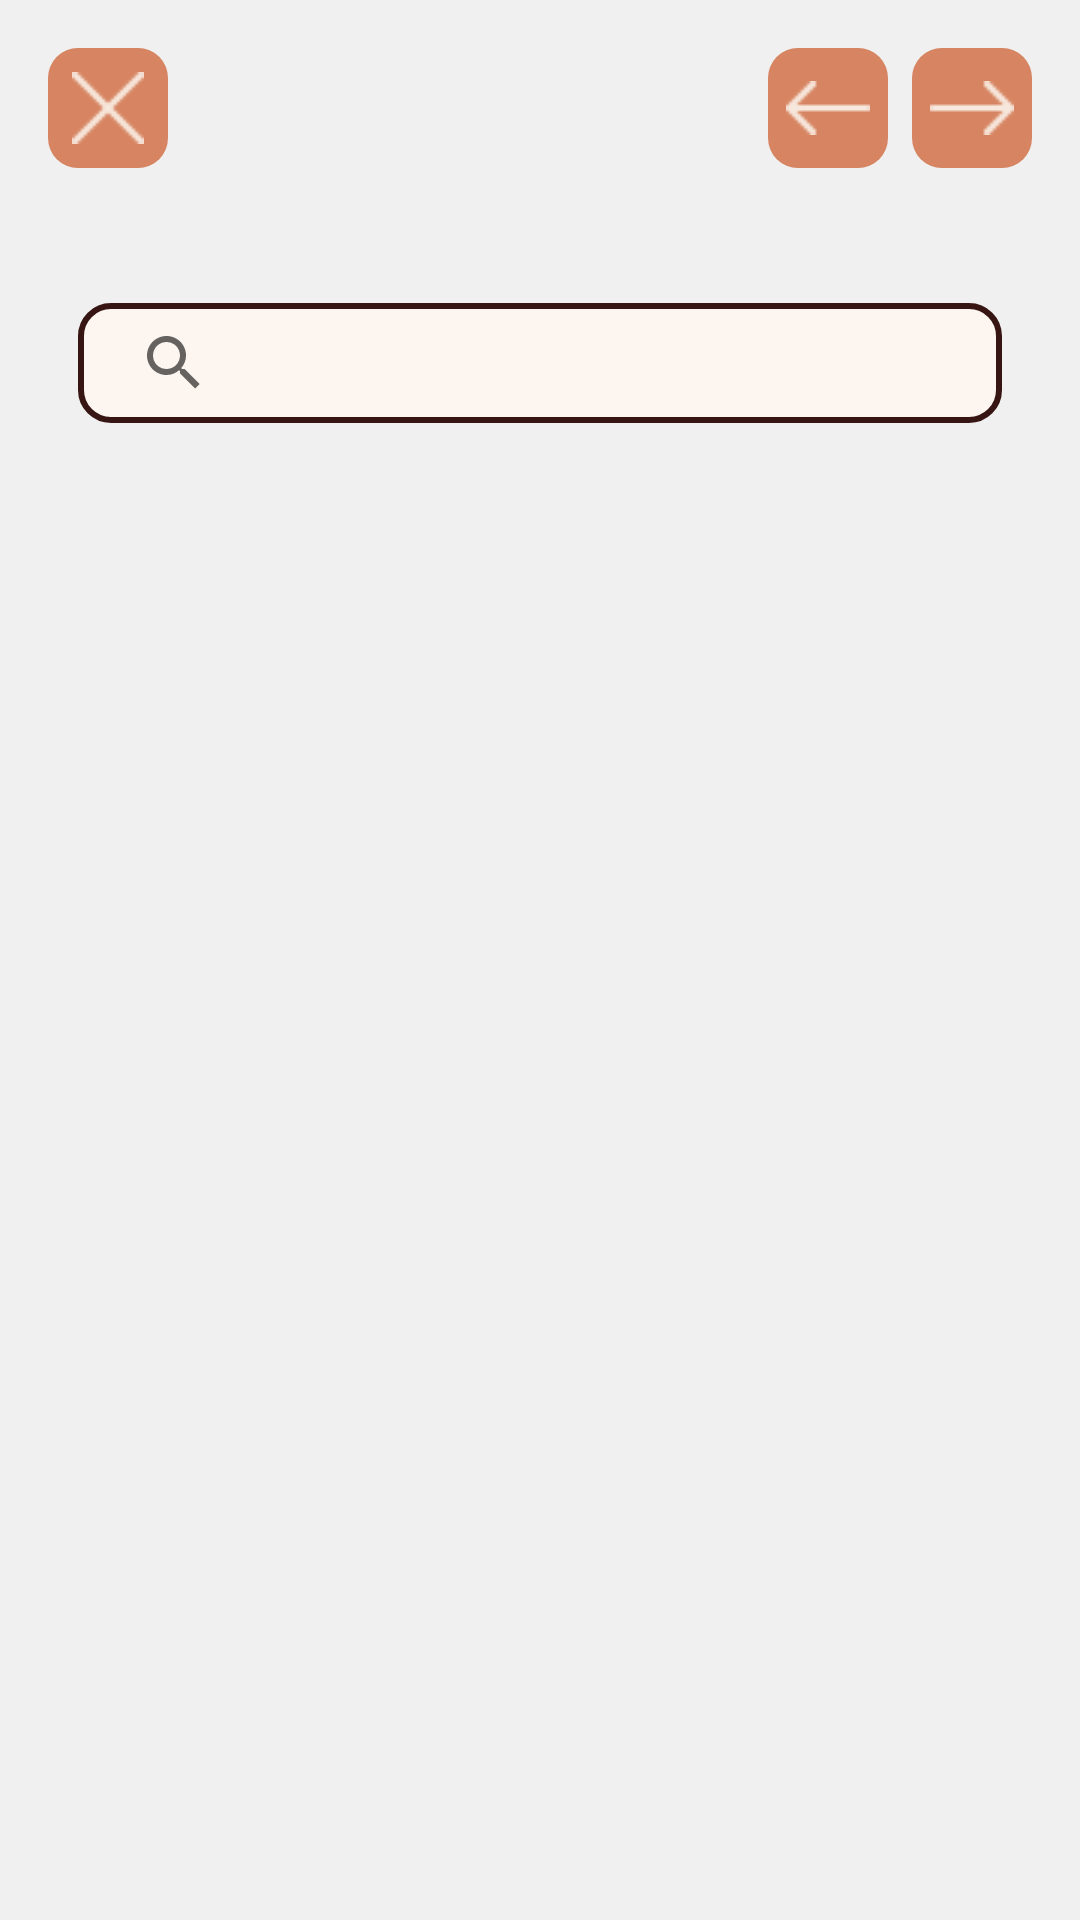

Screen size 1080px×1920px. Icon name, then its box in pixels as (x1=x1, y1=y1, x2=x2, y2=y2):
close: (x1=48, y1=48, x2=168, y2=168)
left arrow: (x1=768, y1=48, x2=888, y2=168)
right arrow: (x1=912, y1=48, x2=1032, y2=168)
